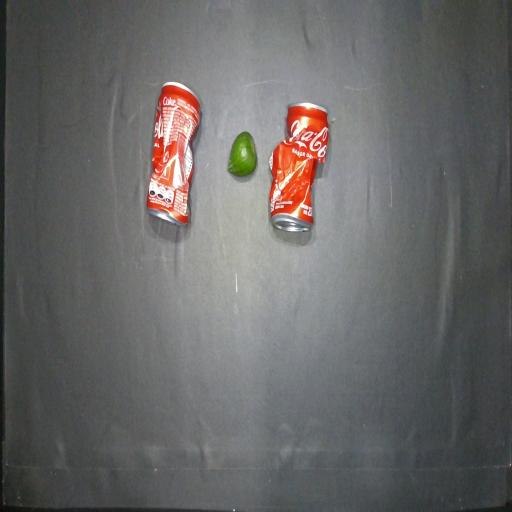higo: (228, 132, 257, 176)
lata_defectuoso: (269, 103, 329, 231), (147, 82, 200, 226)
